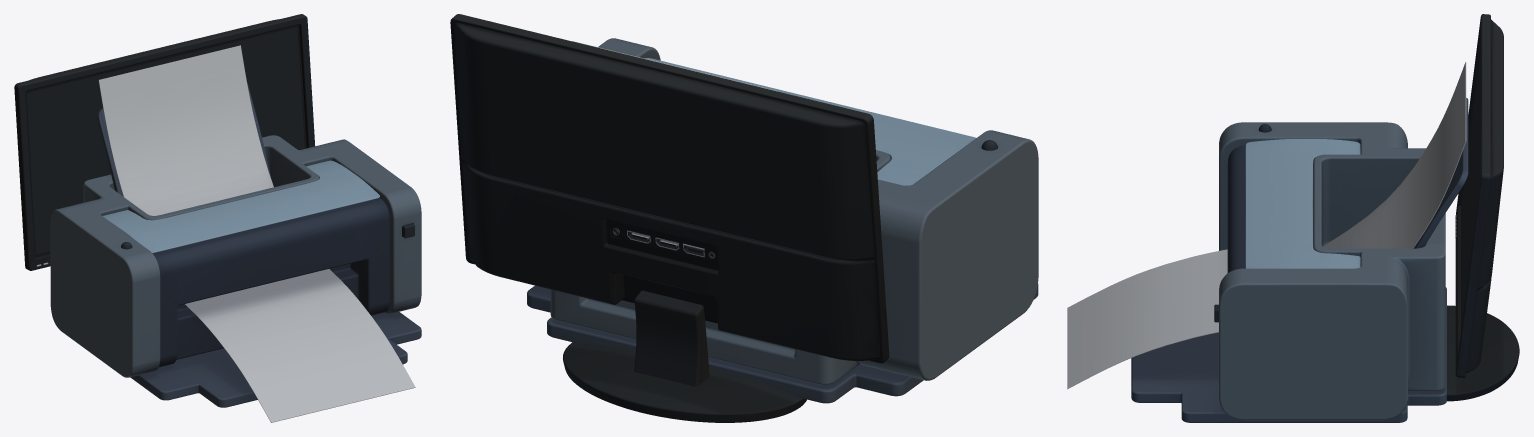
File: Printer1.glb
The picture shows the model from 3 angles, left to right: view 1: azimuth 30°, elevation 25°; view 2: azimuth 150°, elevation 25°; view 3: azimuth 270°, elevation 25°; orthographic projection. The views are drawn at different scales.
Parts seen in each view (by area): view 1: node_id36, node_id30; view 2: node_id30, node_id36; view 3: node_id36, node_id30.
Part boxes in pixels (left/top/right/bottom): node_id36: left=50, top=45, right=421, bottom=422; node_id30: left=14, top=14, right=314, bottom=270; node_id30: left=450, top=14, right=889, bottom=422; node_id36: left=527, top=38, right=1038, bottom=403; node_id36: left=1067, top=62, right=1468, bottom=422; node_id30: left=1447, top=14, right=1519, bottom=401.
Bounding box in the file's own units: 0.512 × 0.3893 × 0.603.
2 materials, 2 textured.
